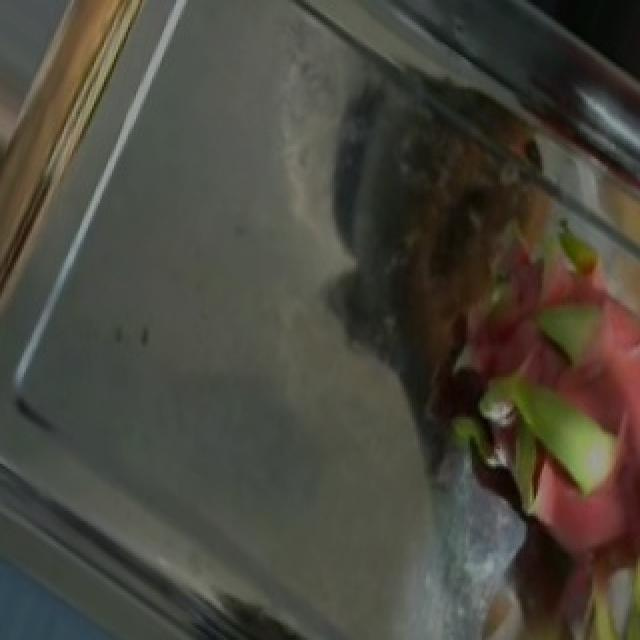fruit: (328, 137, 640, 600)
